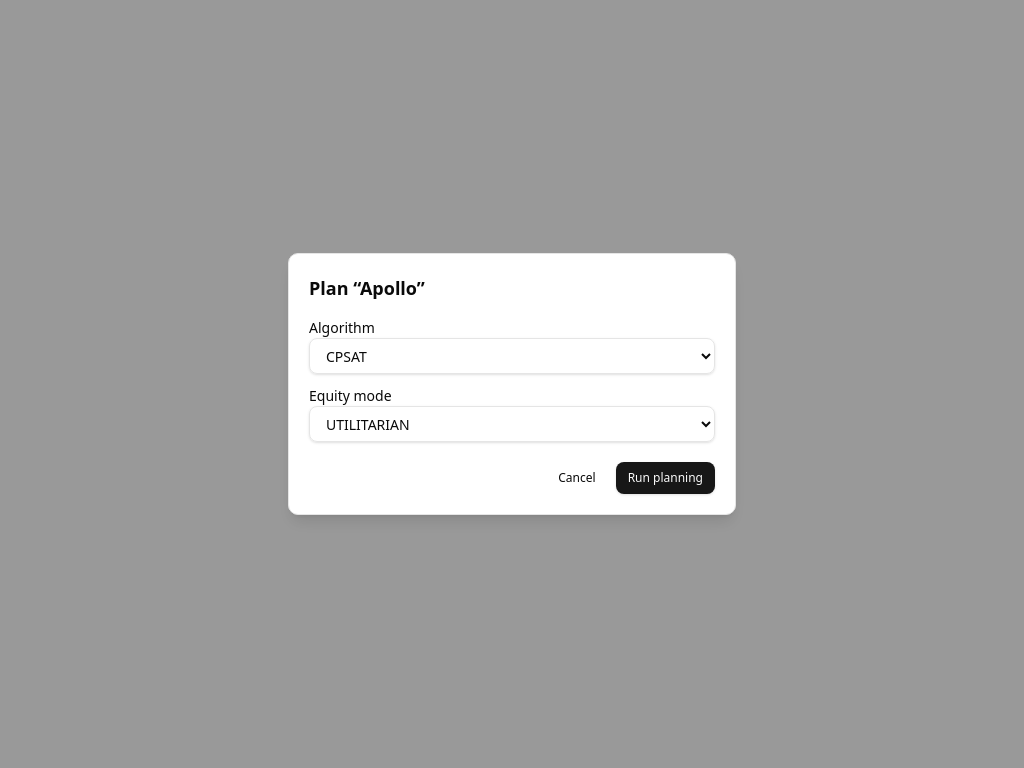
LaunchPlanningModal › surfaces an optimizer-unavailable error
Click the button "Run planning" at (665, 478), box [616,462,715,494]
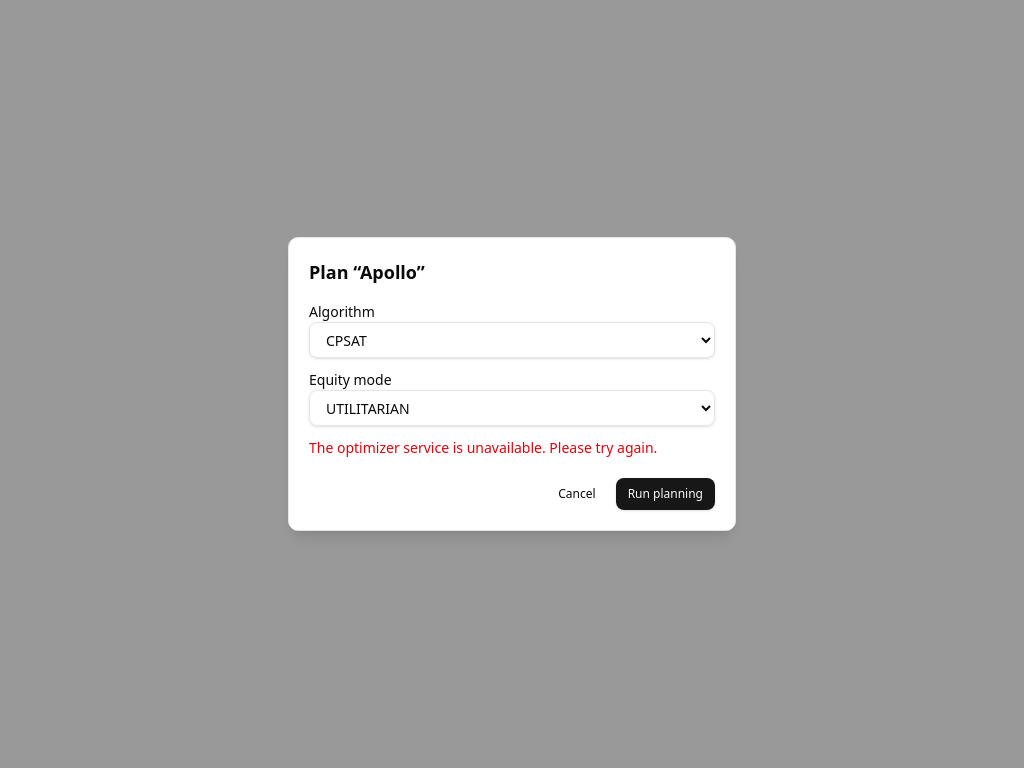
Now the message shows "optimizer service is unavailable", box [309,438,657,457]
